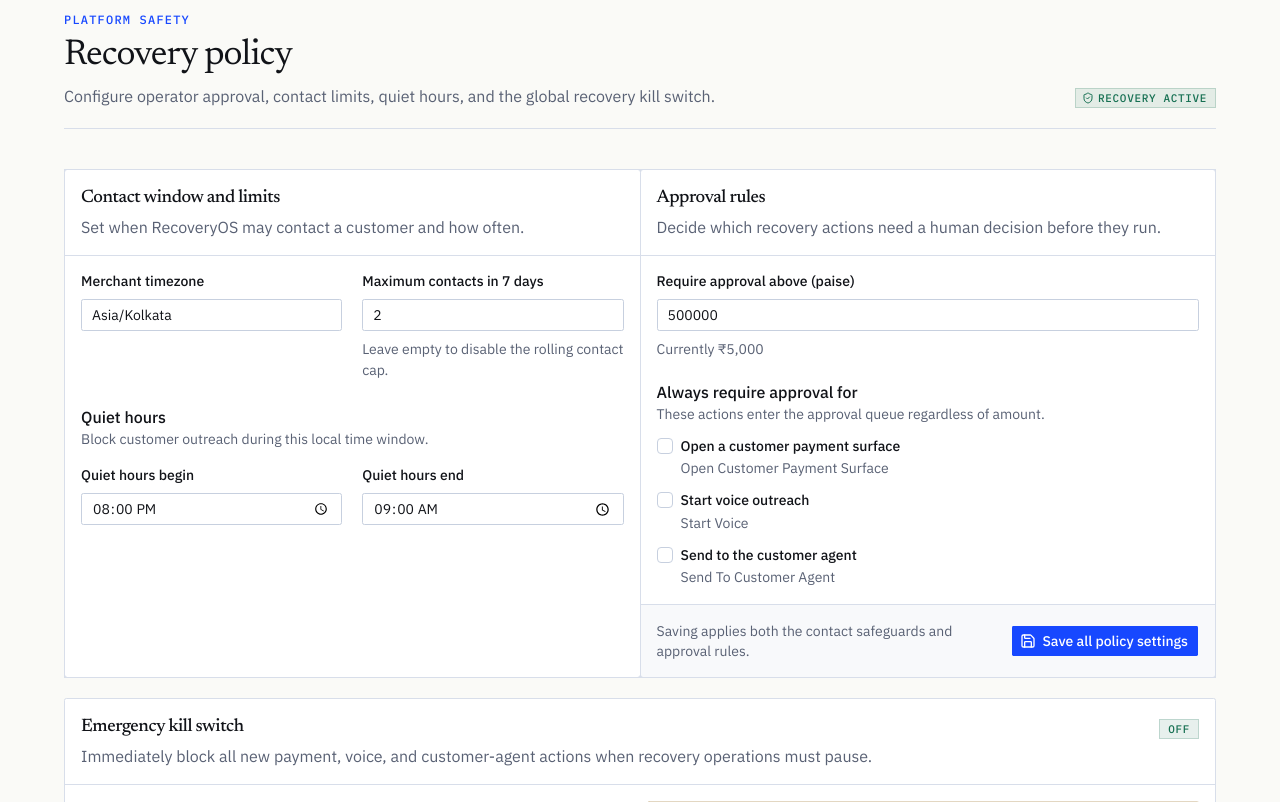
Test: PolicySettingsPanel › round-trips disabled nullable policy controls
Clear the time field labelled "Quiet hours begin" at (212, 509), box x1=81 y1=493 x2=342 y2=525
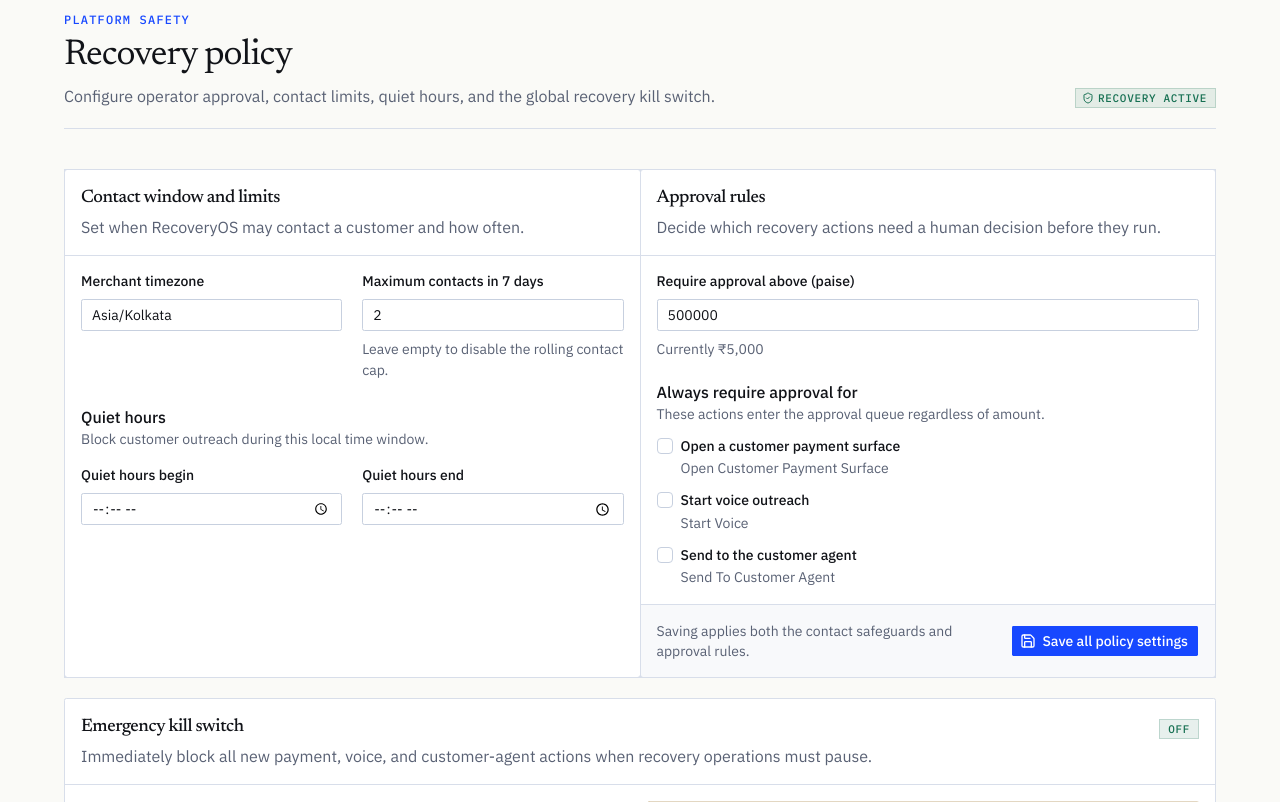
Clear the number field labelled "Maximum contacts in 7 days" at (493, 315), box x1=362 y1=299 x2=624 y2=331
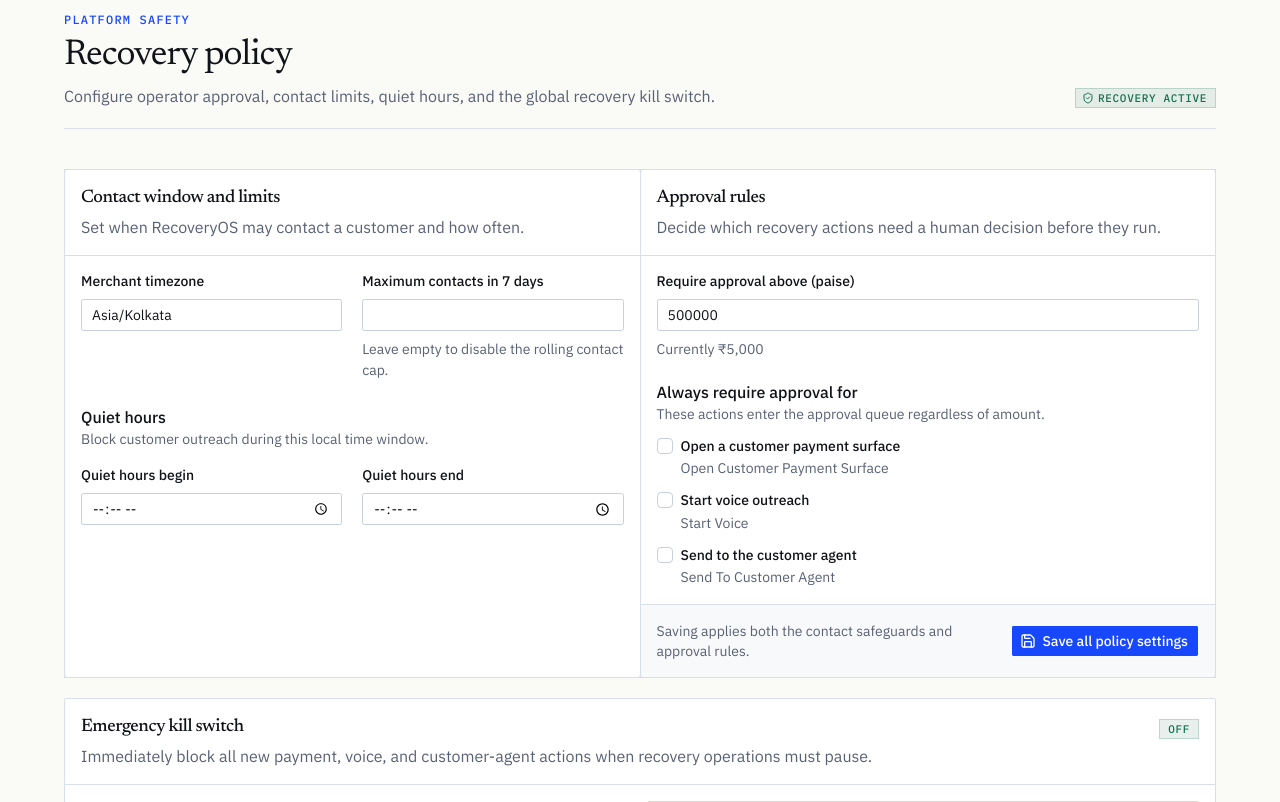
Clear the number field labelled "Require approval above (paise)" at (928, 315), box x1=656 y1=299 x2=1199 y2=331
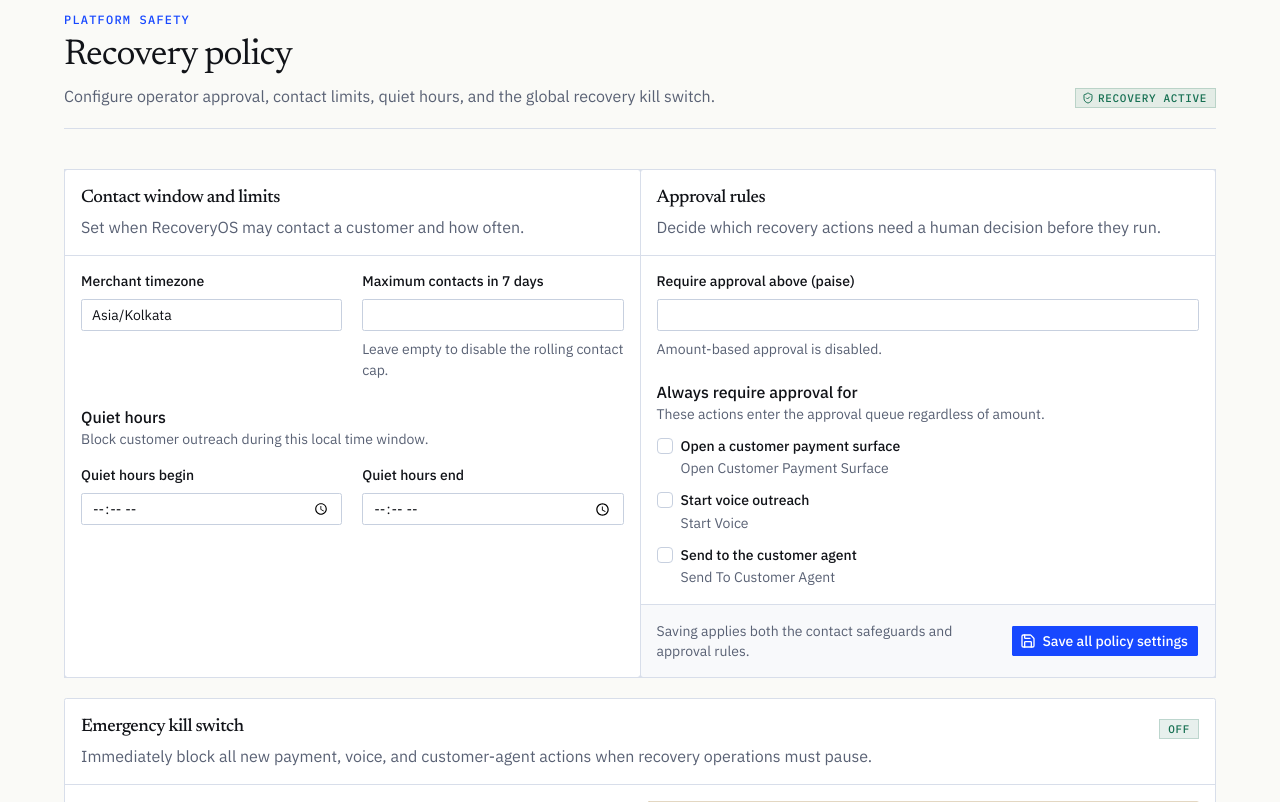
Click the button with aria-label "Save policy".
click(1105, 641)  # box x1=1012 y1=625 x2=1199 y2=657
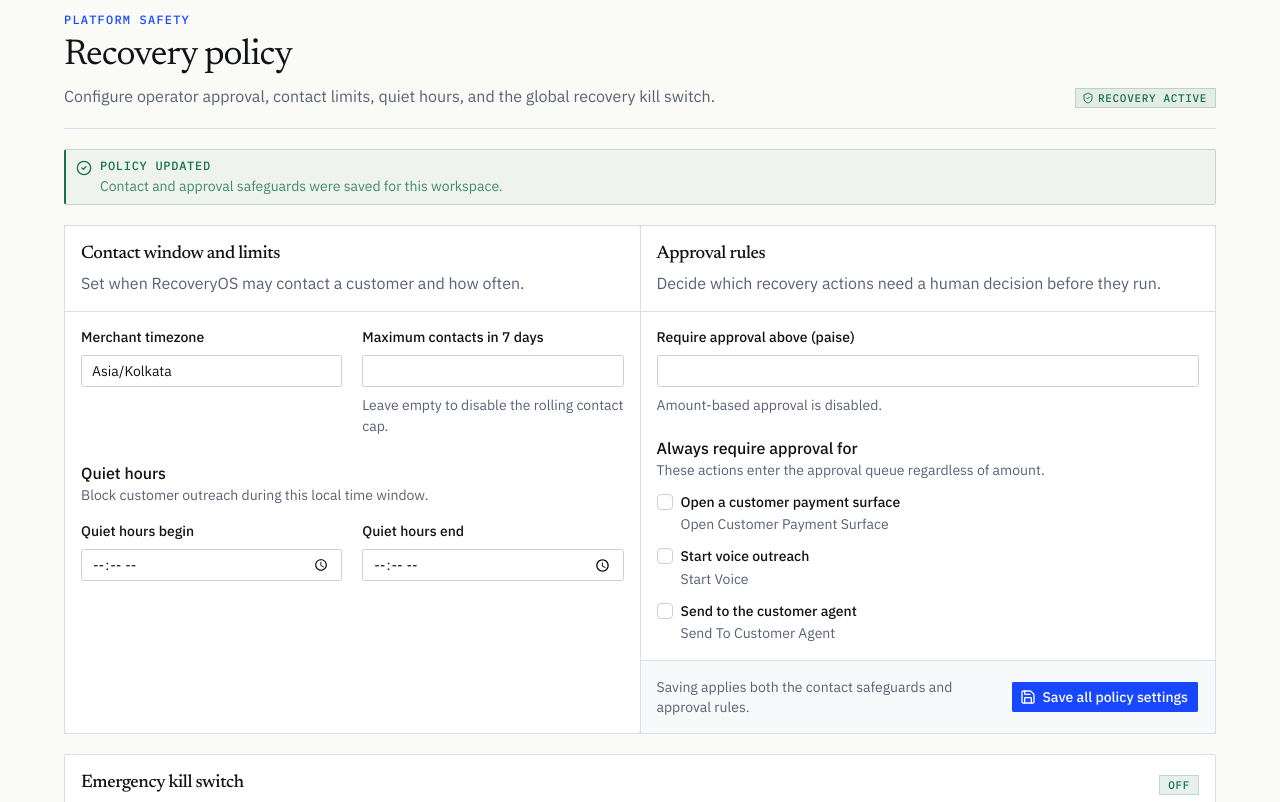
Expected: the text "safeguards were saved" is shown, x1=100 y1=177 x2=503 y2=195
